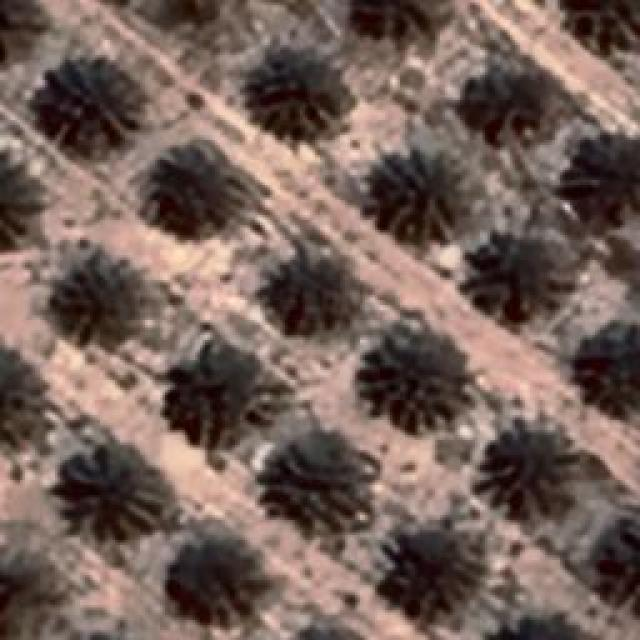PalmTree: (42, 240, 162, 350), (350, 328, 470, 430), (54, 440, 168, 542), (240, 40, 350, 135), (370, 145, 470, 245), (168, 540, 268, 640), (41, 68, 139, 168), (390, 535, 490, 630), (482, 428, 576, 518), (268, 442, 366, 528), (155, 145, 243, 230), (256, 248, 349, 328), (174, 348, 256, 436), (476, 227, 554, 315), (570, 116, 640, 212), (0, 346, 59, 459), (474, 71, 562, 144), (571, 322, 640, 413), (589, 512, 640, 626), (0, 144, 46, 260), (344, 0, 454, 44), (556, 0, 640, 54), (474, 607, 596, 640), (0, 0, 47, 72), (282, 614, 367, 640)
